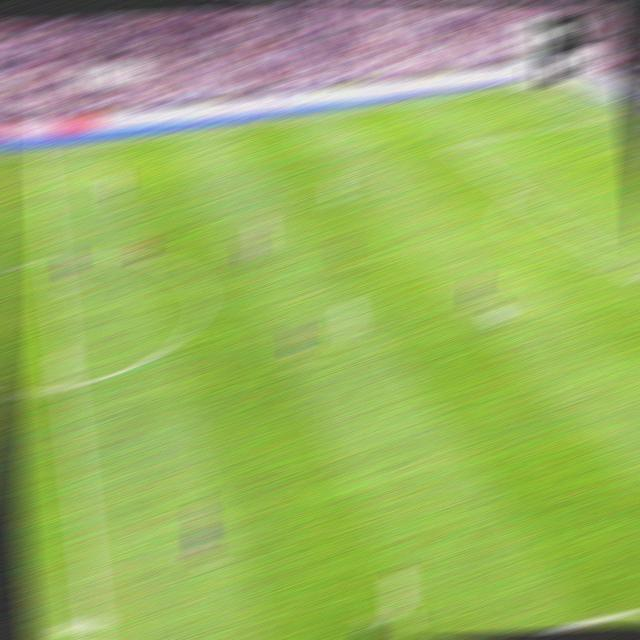bigarea_top_inner: (442, 138, 462, 152)
bigarea_top_outter: (605, 109, 623, 119)
bottom_arc_area_intersection: (606, 253, 628, 272)
halfcircle_bottom: (55, 372, 80, 398)
halfcircle_top: (40, 246, 63, 268)
midline_top_intersection: (27, 147, 49, 162)
smallarea_top_inner: (623, 153, 637, 166)
top_arc_area_intersection: (504, 182, 524, 198)
